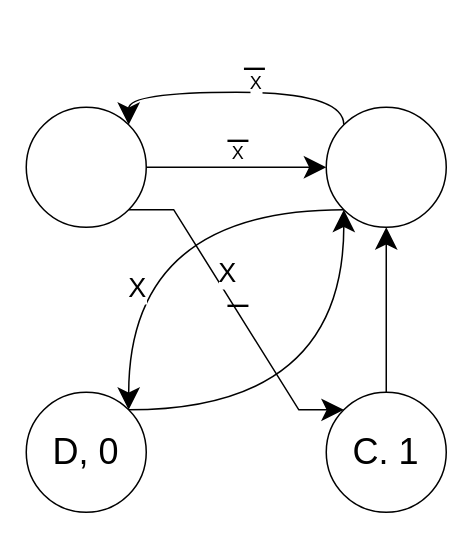
Image size: 473x539. Some labels were removed from this diagram. The shapes that lost their labels are listed below. From the top down, each one's box as (x1, y1, x2, y2) in pixels, then its label:
(25, 106, 146, 227): A, 1
(325, 106, 446, 227): B, 1
